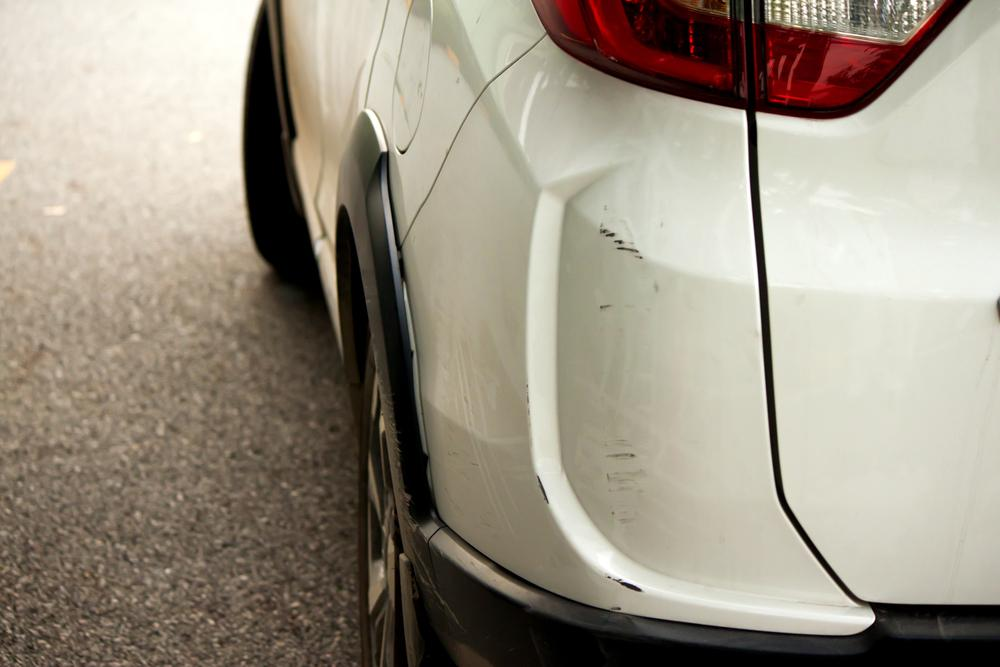scratch: (595, 215, 653, 537), (604, 570, 650, 606), (526, 468, 554, 517)
